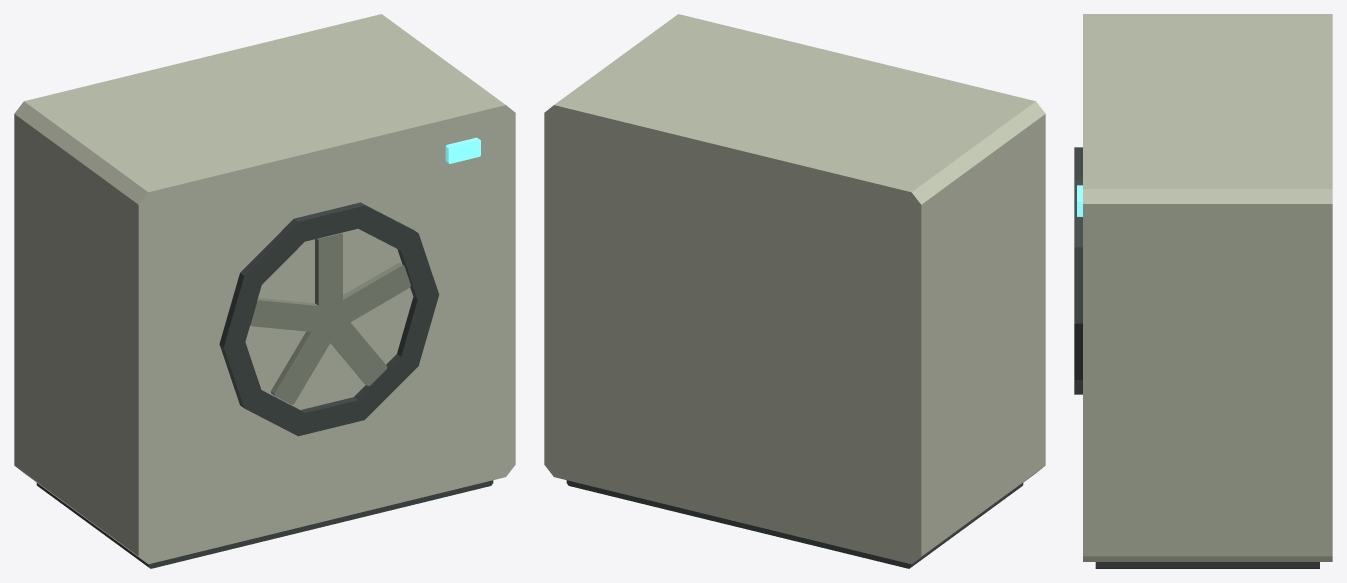
The model's file is Cooler.gltf.
3 views of the same model, side by side, from view 1: azimuth 30°, elevation 25°; view 2: azimuth 150°, elevation 25°; view 3: azimuth 270°, elevation 25° (orthographic).
Visible parts, largest first — view 1: Cooler; view 2: Cooler; view 3: Cooler.
Part boxes in pixels (<box>): Cooler: <box>14,14,515,568</box>; Cooler: <box>544,14,1045,568</box>; Cooler: <box>1074,14,1332,568</box>.
Size of the model in its own units: 0.7 by 0.68 by 0.414.
